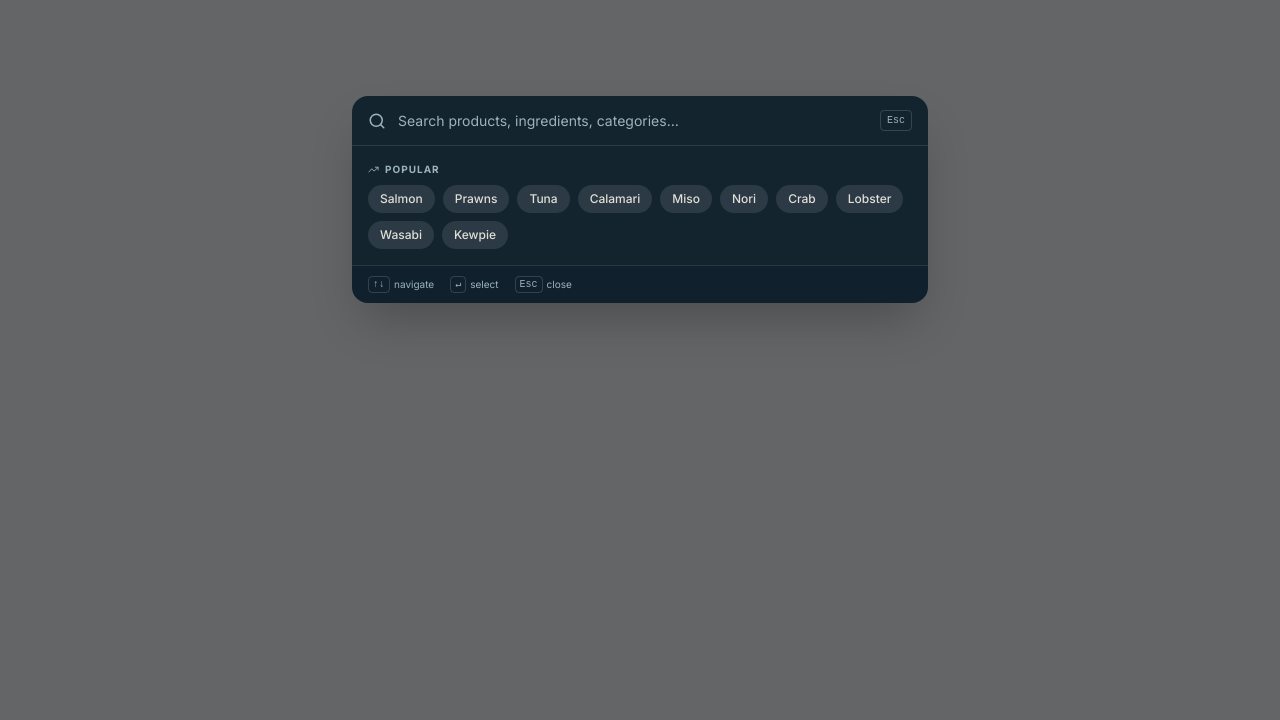
Test: GlobalSearch › fetches suggestions after typing 2+ characters (debounced)
In the search field with placeholder "Search products, ingredients, categories…": (633, 120) [398,110,868,130], type "sa"
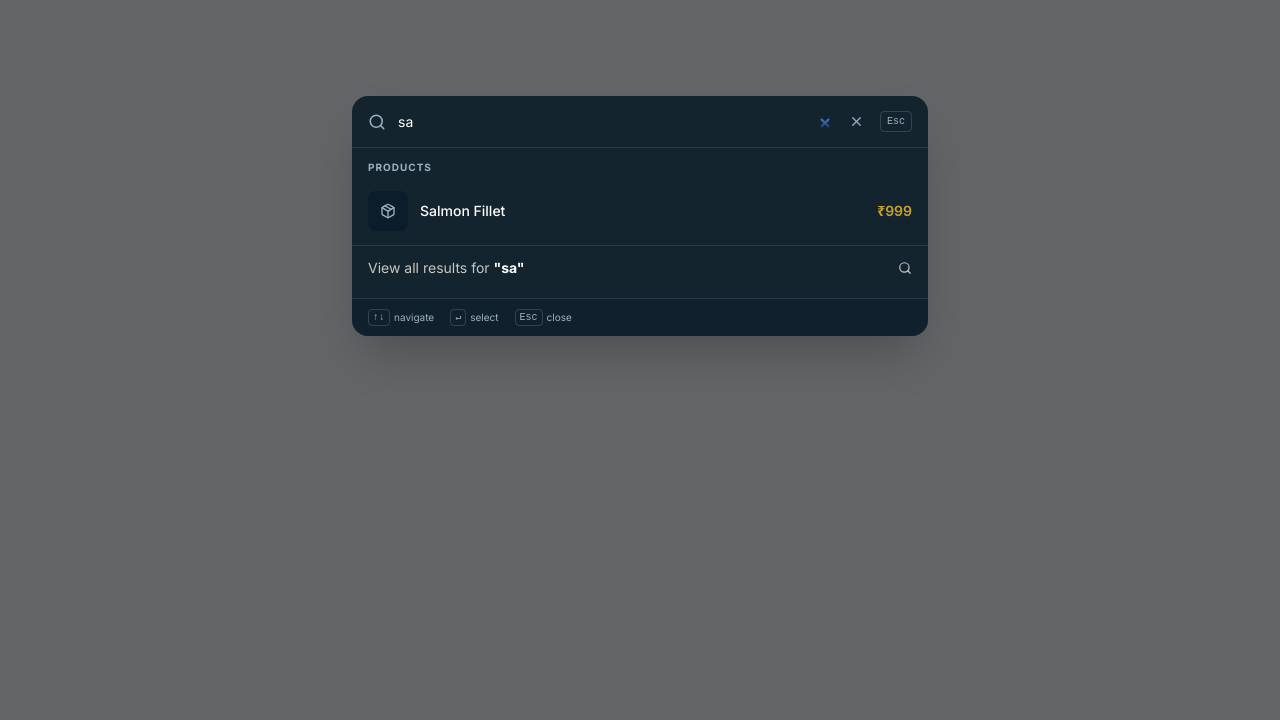
Expected: the text "Salmon Fillet" is shown, [420,202,505,219]
